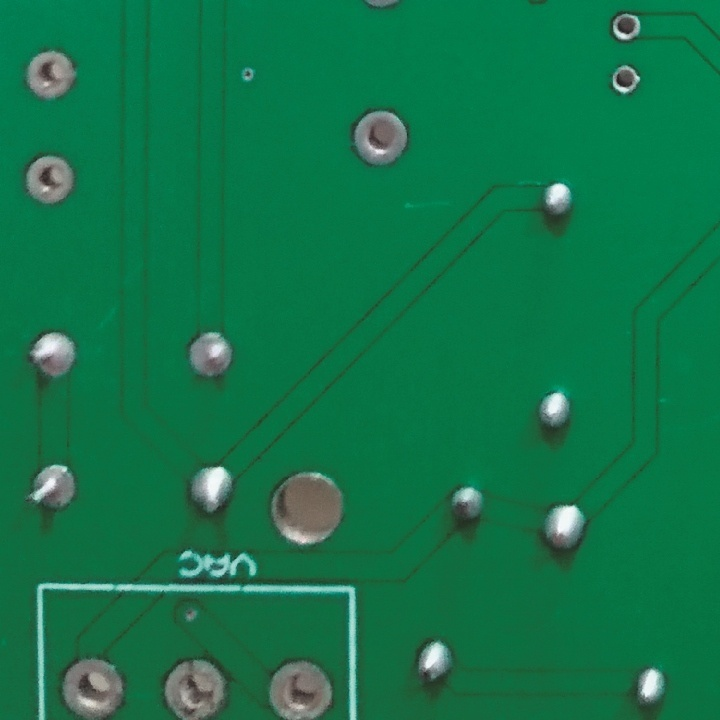F: (158, 650, 231, 720), (265, 656, 340, 720), (56, 655, 128, 720), (353, 106, 410, 169), (26, 46, 81, 108), (27, 457, 81, 515), (22, 153, 77, 207), (27, 331, 81, 379), (187, 329, 236, 380), (607, 7, 643, 46), (607, 64, 642, 96)
